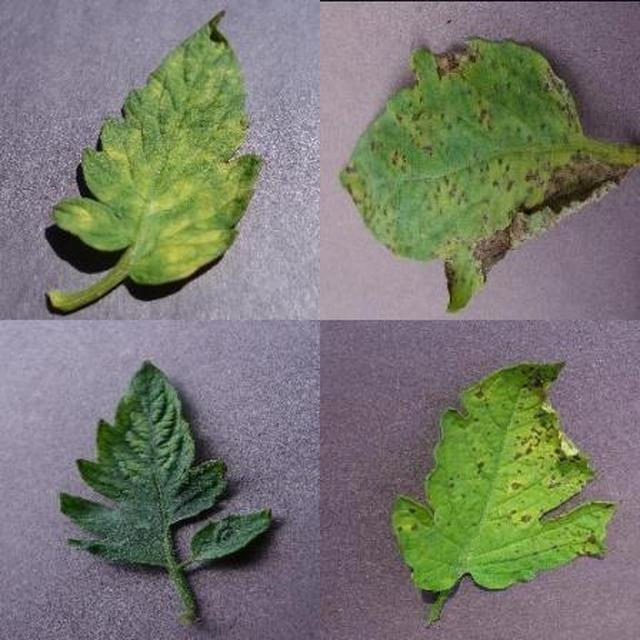Leaf Mold: (226, 209, 640, 640)
